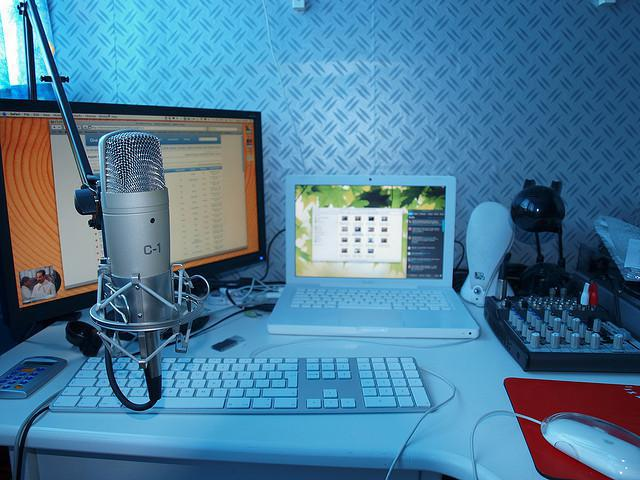tv: (2, 89, 273, 320), (278, 165, 460, 289)
